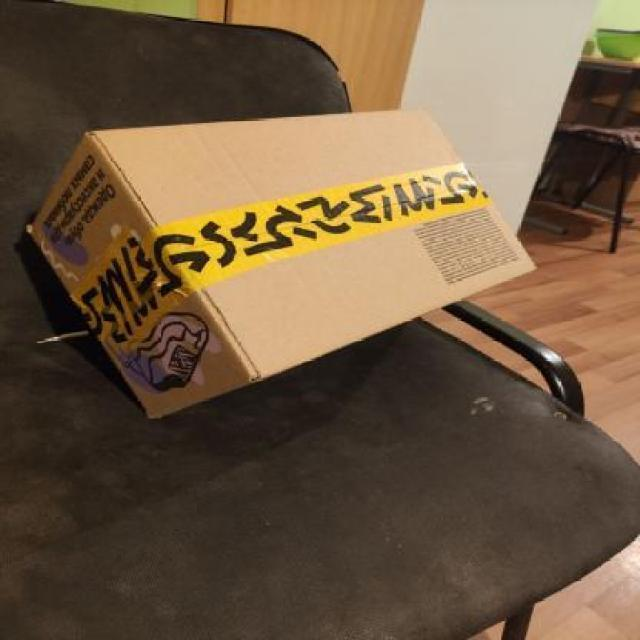box: (21, 93, 538, 430)
